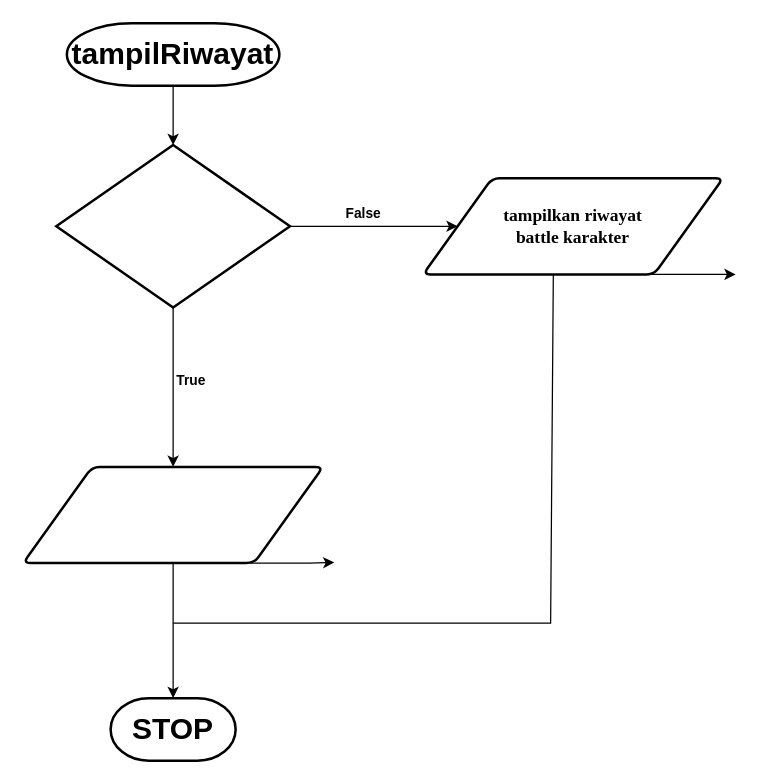
Image size: 768x783. Some labels were removed from this diagram. Each missing label, with the centre of its shape:
"belum ada riwayat ": the point at 172,514
jumlahElemenStack == 0: the point at 172,225
